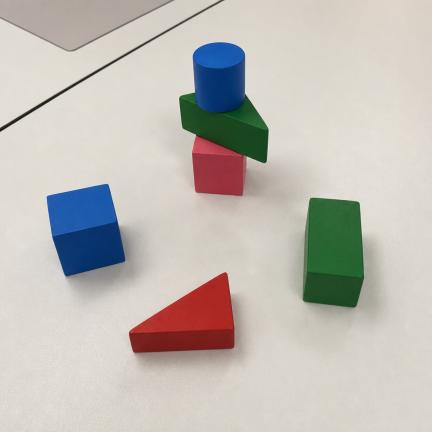BuildingBlocks: (130, 273, 234, 352), (47, 184, 124, 275), (303, 198, 363, 307), (180, 94, 268, 162), (193, 43, 245, 112), (192, 136, 246, 195)
